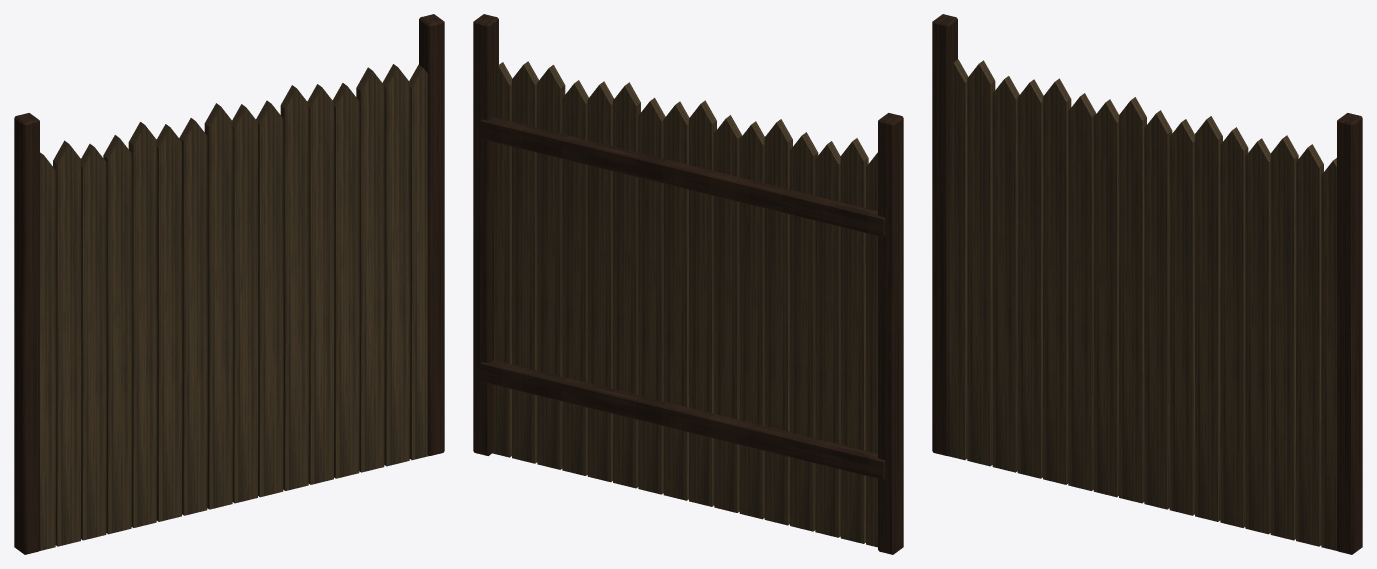
Rendered from level_enclosure_garden_worn.glb.
3 views of the same model, side by side, from view 1: azimuth 30°, elevation 25°; view 2: azimuth 150°, elevation 25°; view 3: azimuth 330°, elevation 25° (orthographic).
Parts seen in each view (by area): view 1: level_enclosure_garden_worn; view 2: level_enclosure_garden_worn; view 3: level_enclosure_garden_worn.
Boxes of the visible parts, box(x1,y1,x2,y2) form: level_enclosure_garden_worn: box(14, 14, 444, 554); level_enclosure_garden_worn: box(473, 14, 903, 554); level_enclosure_garden_worn: box(932, 14, 1362, 554).
Size of the model in its own units: 2 by 1.96 by 0.0975.
Materials: 2 (2 with a texture image).
